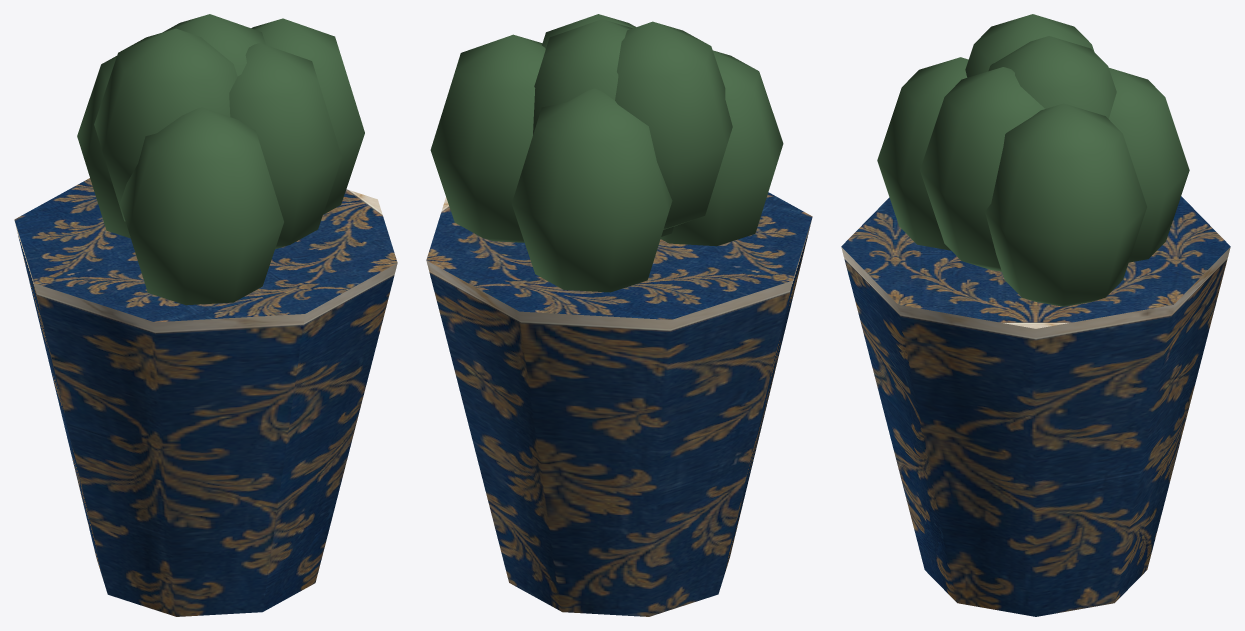
The model's file is urn.gltf.
3 views of the same model, side by side, from view 1: azimuth 30°, elevation 25°; view 2: azimuth 150°, elevation 25°; view 3: azimuth 270°, elevation 25° (orthographic). The views are drawn at different scales.
Visible parts, largest first — view 1: kit:0:furniture:marble:, kit:0:furniture:foliage:; view 2: kit:0:furniture:marble:, kit:0:furniture:foliage:; view 3: kit:0:furniture:marble:, kit:0:furniture:foliage:.
Boxes of the visible parts, bbox=[...] form: kit:0:furniture:marble:: bbox=[14, 178, 397, 616]; kit:0:furniture:foliage:: bbox=[77, 14, 364, 305]; kit:0:furniture:marble:: bbox=[426, 192, 812, 616]; kit:0:furniture:foliage:: bbox=[430, 14, 783, 292]; kit:0:furniture:marble:: bbox=[841, 196, 1230, 616]; kit:0:furniture:foliage:: bbox=[877, 14, 1189, 306].
Bounding box in the file's own units: 0.546 × 0.8364 × 0.546.
2 materials, 1 textured.
